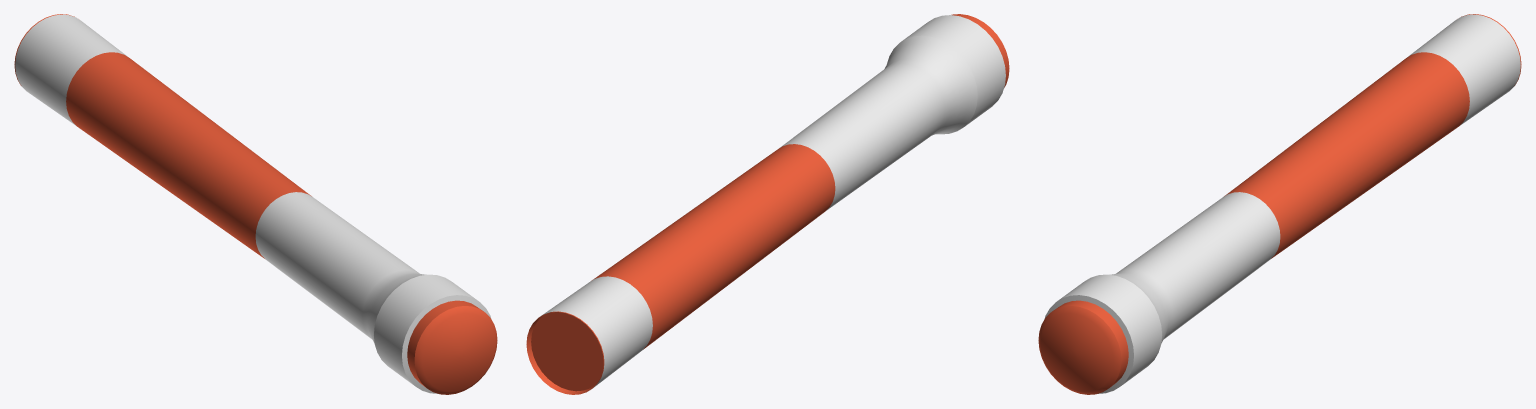
File: marker_eraser.fbx
3 renders of one model, left to right at view 1: azimuth 30°, elevation 25°; view 2: azimuth 150°, elevation 25°; view 3: azimuth 330°, elevation 25°, orthographic.
Visible parts, largest first — view 1: Cylinder; view 2: Cylinder; view 3: Cylinder.
Boxes of the visible parts, <box> form: Cylinder: <box>14,14,497,394</box>; Cylinder: <box>526,14,1009,394</box>; Cylinder: <box>1038,14,1521,394</box>.
Bounding box in the file's own units: 11.61 × 11.61 × 89.08.
